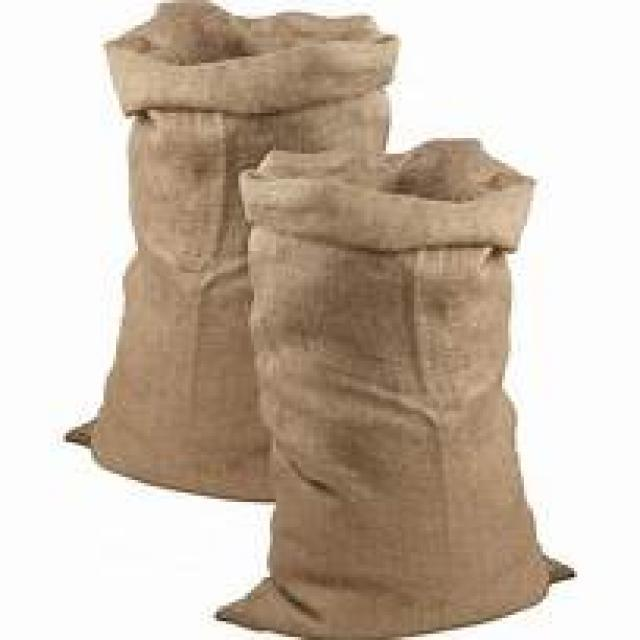gunny_bag: (210, 132, 585, 640), (58, 0, 403, 507)
